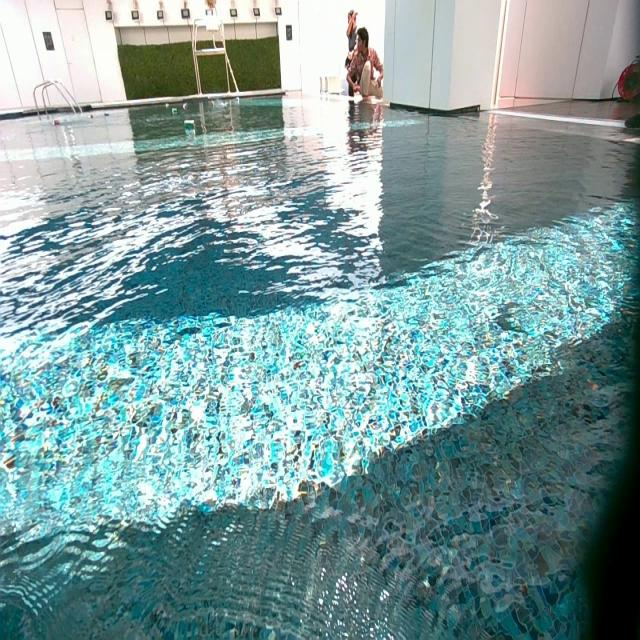Cans: (183, 120, 195, 130), (54, 118, 63, 126), (145, 116, 151, 124), (104, 111, 110, 118), (90, 114, 96, 120), (172, 108, 178, 114), (235, 97, 241, 102), (183, 103, 188, 109), (210, 100, 214, 107), (165, 104, 169, 108)
